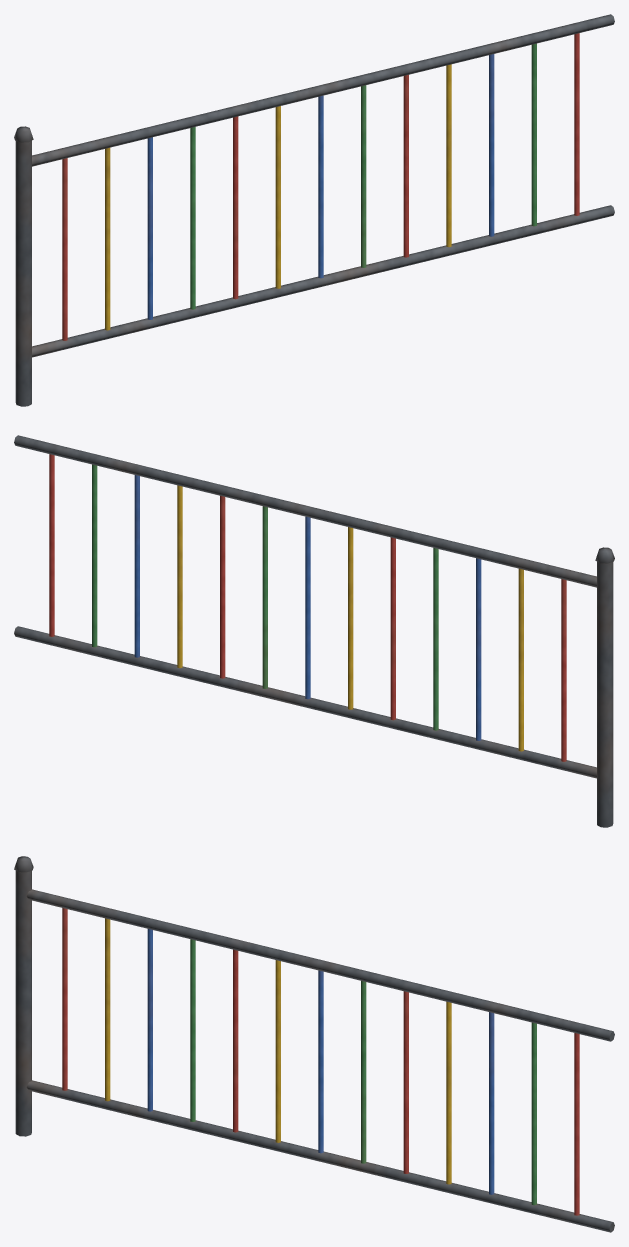
Rendered from plac_plotek.glb.
The picture shows the model from 3 angles, top to bottom: view 1: azimuth 30°, elevation 25°; view 2: azimuth 150°, elevation 25°; view 3: azimuth 330°, elevation 25°; orthographic projection.
Visible parts, largest first — view 1: Plotek; view 2: Plotek; view 3: Plotek.
Part boxes in pixels (x1=…): Plotek: x1=14, y1=14, x2=614, y2=406; Plotek: x1=14, y1=435, x2=614, y2=827; Plotek: x1=14, y1=856, x2=614, y2=1232.
Bounding box in the file's own units: 2.03 × 0.895 × 0.06.
Materials: 1 (1 with a texture image).
